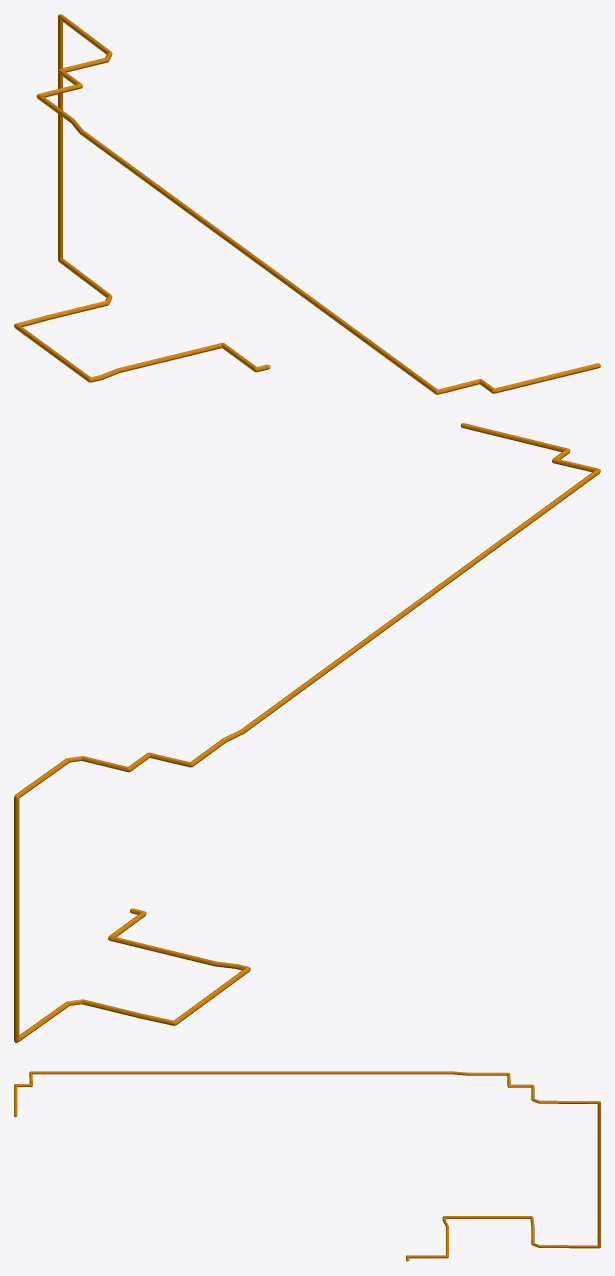
3 renders of one model, top to bottom at view 1: azimuth 30°, elevation 25°; view 2: azimuth 150°, elevation 25°; view 3: azimuth 270°, elevation 25°, orthographic. The views are drawn at different scales.
Size of the model in its own units: 658 by 1020 by 3687.
